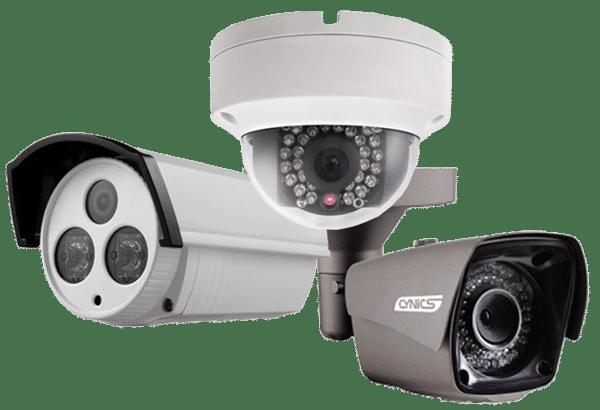CCTV: (6, 133, 329, 327), (211, 10, 453, 230), (347, 232, 590, 403)
